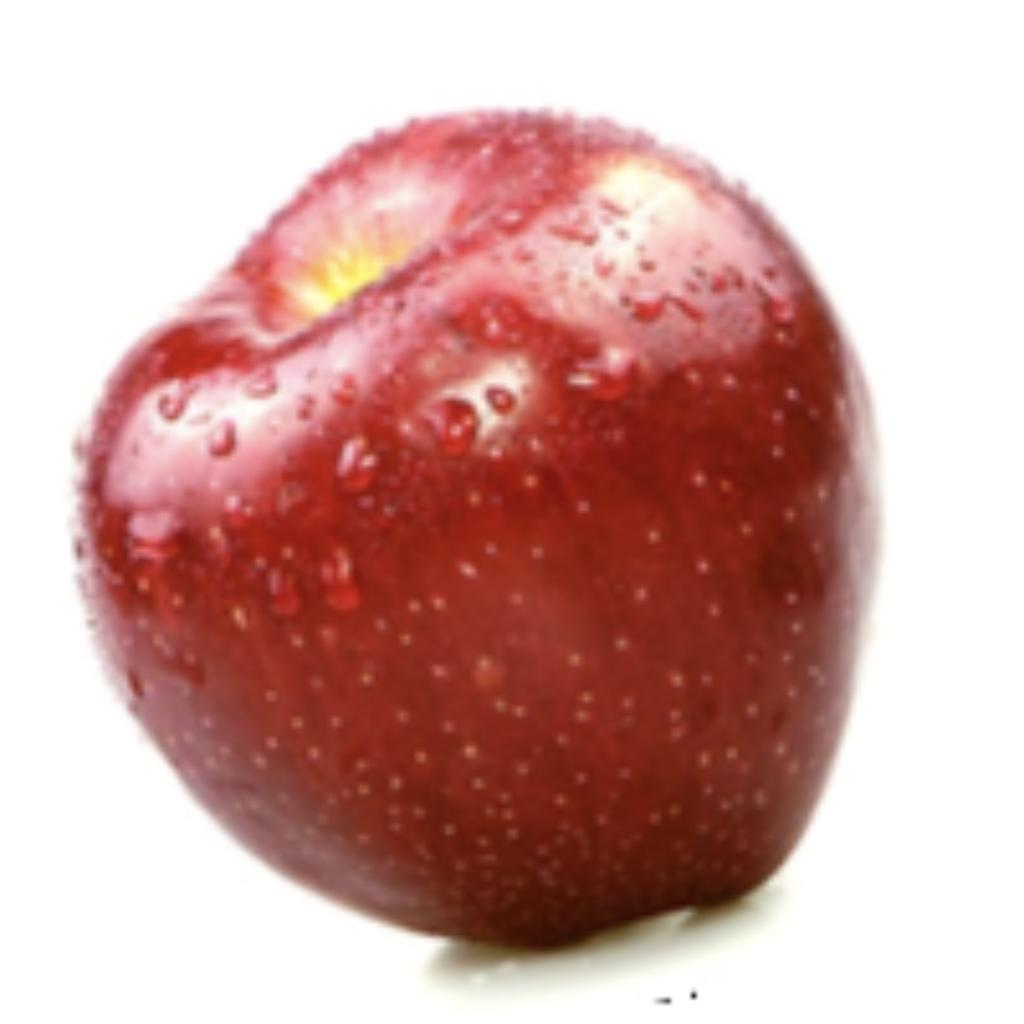apple: (61, 97, 886, 1004)
